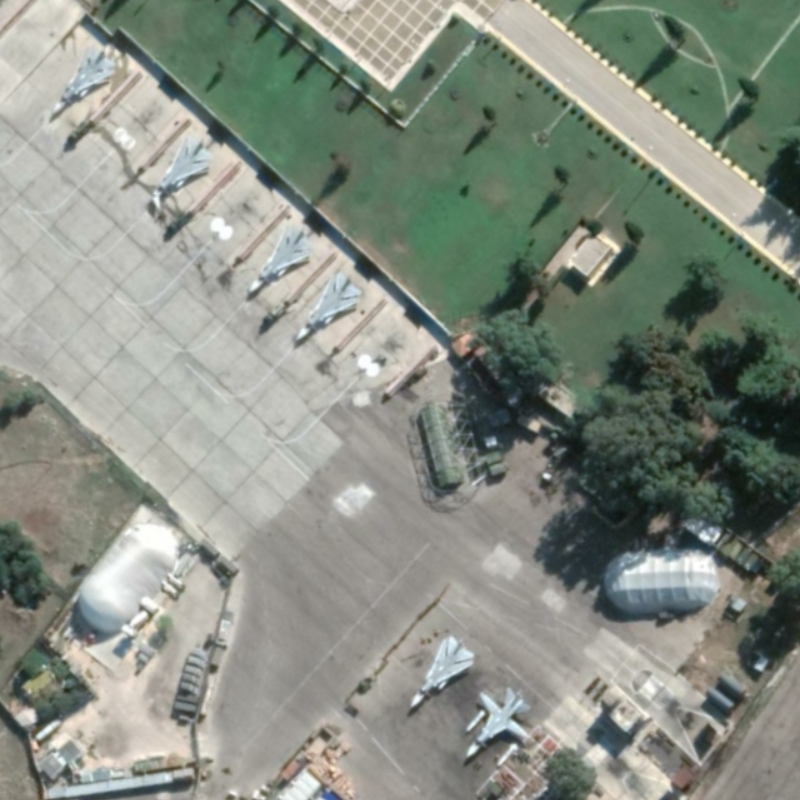A20: (460, 682, 539, 767), (405, 630, 479, 716), (46, 40, 121, 124), (288, 267, 365, 348), (243, 218, 314, 303), (144, 131, 215, 213)
